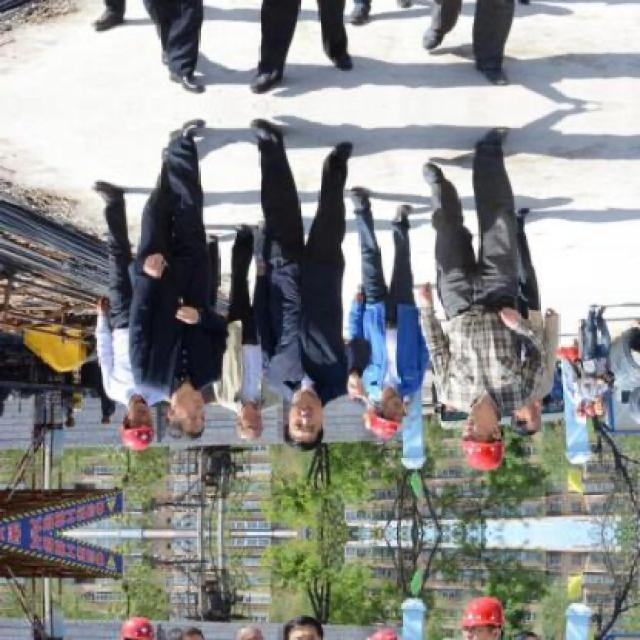con casco: (443, 390, 531, 476), (322, 378, 404, 448), (112, 403, 179, 464), (210, 454, 220, 454)
sin casco: (266, 384, 370, 445), (208, 389, 284, 462), (158, 386, 221, 441)
